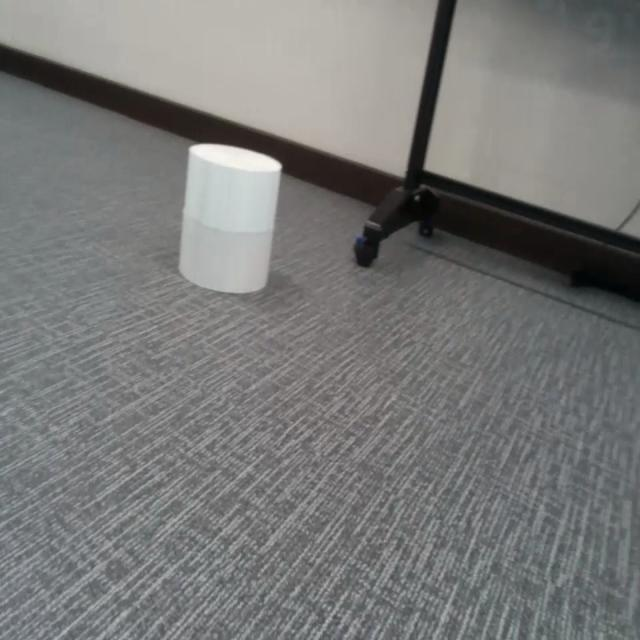cylinder: (179, 143, 284, 294)
